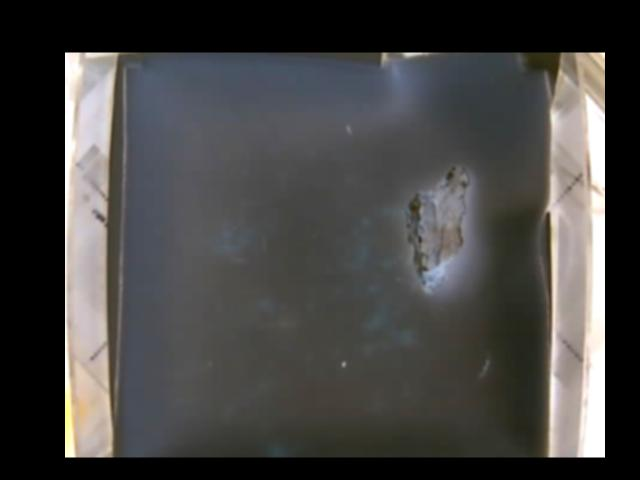Brisk: (408, 166, 469, 293)
